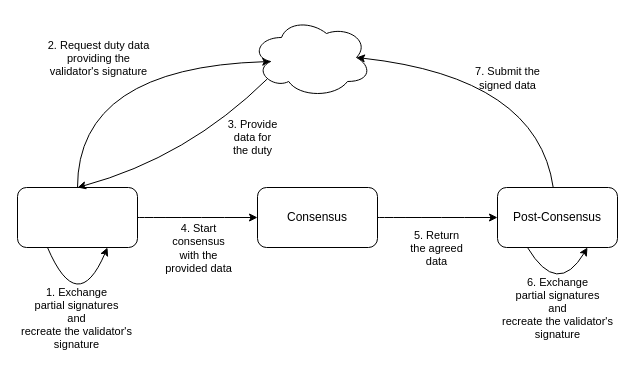
This 635x369 diagram has some shape labels left out. The shapes that lost their labels are listed below. From the top down, each one's centre as x and y in pixels, then its label:
At point 311,57: "Beacon Node".
At point 77,217: "Pre-Consensus".
